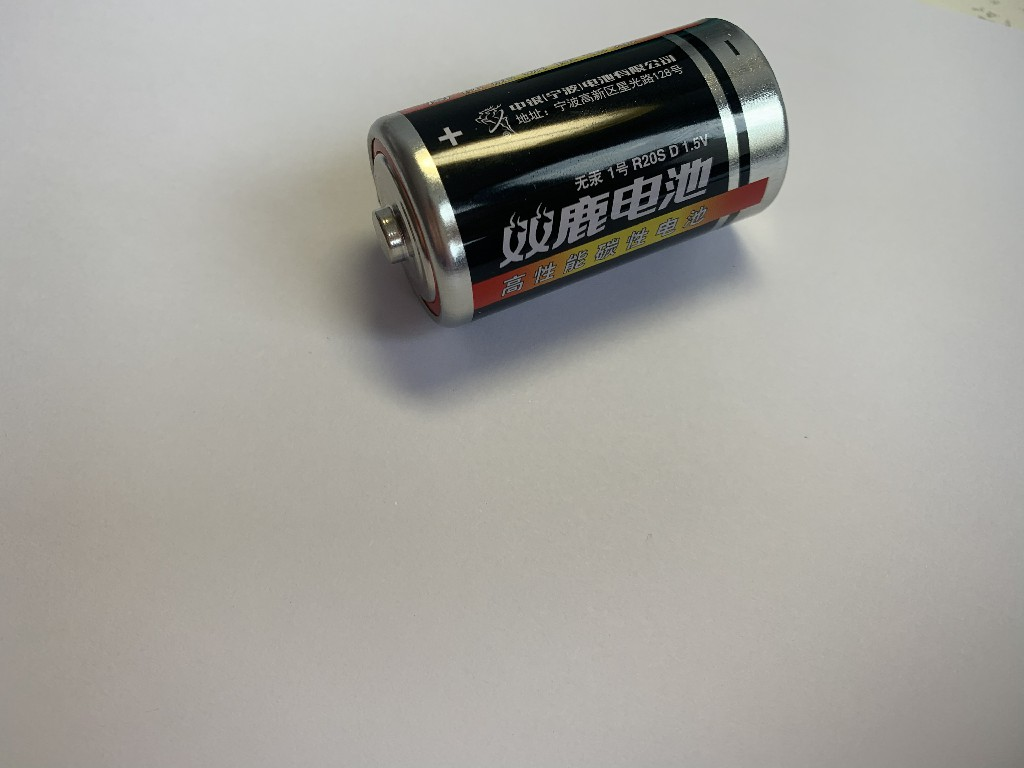charge: (361, 9, 800, 331)
